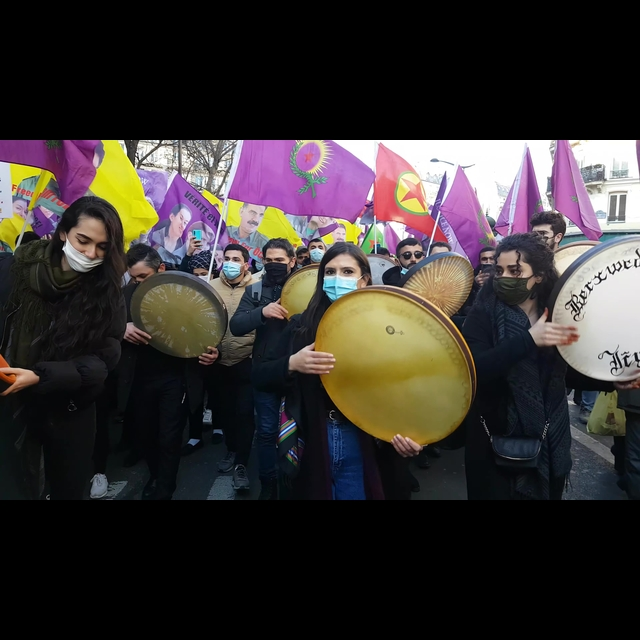PKK: (375, 142, 451, 244)
